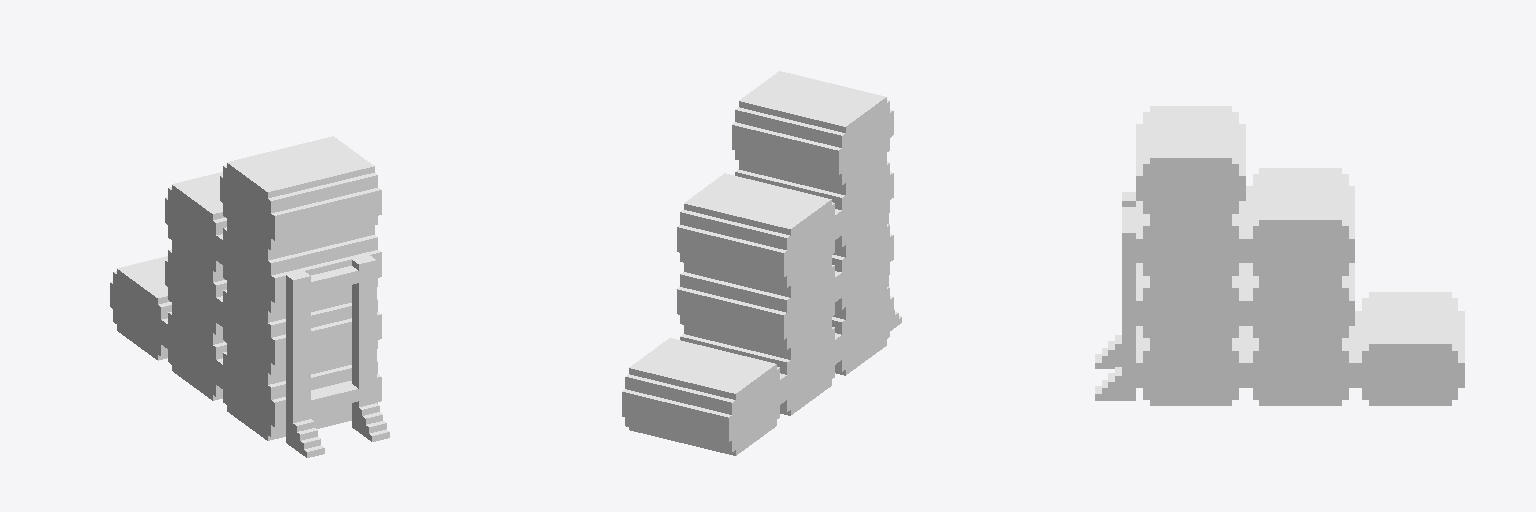
Rendered from Let-4.obj.
3 views of the same model, side by side, from view 1: azimuth 30°, elevation 25°; view 2: azimuth 150°, elevation 25°; view 3: azimuth 270°, elevation 25° (orthographic).
Visible parts, largest first — view 1: object 1; view 2: object 1; view 3: object 1.
Part boxes in pixels (bbox=[...]): object 1: bbox=[110, 136, 389, 457]; object 1: bbox=[622, 71, 901, 455]; object 1: bbox=[1095, 106, 1464, 405].
Bounding box in the file's own units: 1.8 × 4 × 5.4.